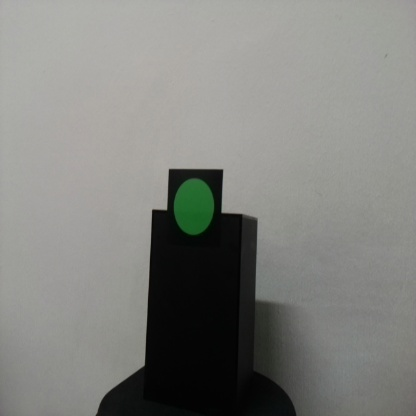id_5: (169, 169, 221, 254)
